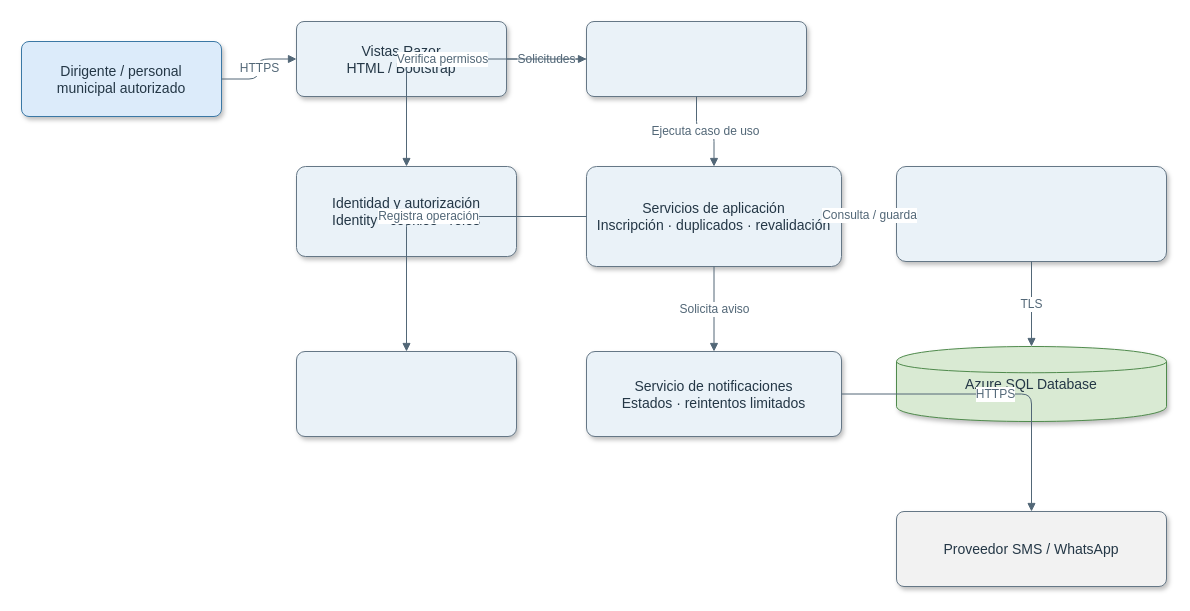
Some shapes in this 1190 by 611 pixel diagram are drawn without their labels. Each missing label, with the centre of its shape:
Acceso a datos EF Core 10 · Repository/UoW: the point at 1032,215
Controladores MVC Coordinan solicitudes: the point at 697,60
Servicio de auditoría Actor · fecha · resultado: the point at 407,395
